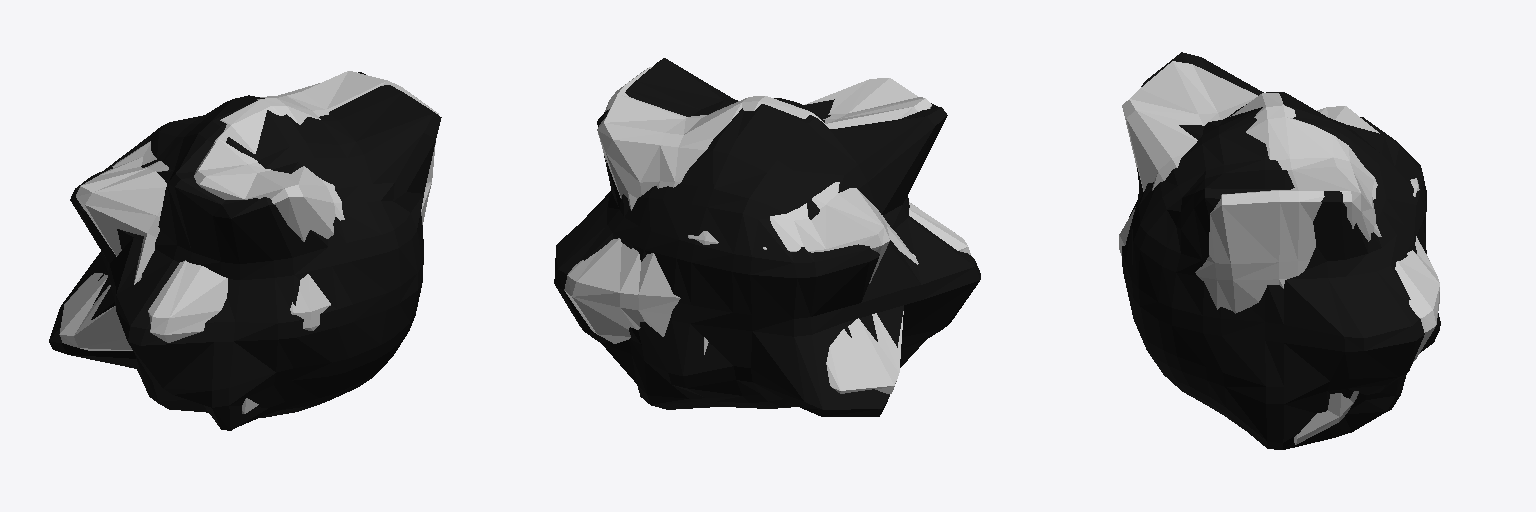
Rendered from power_crystal.obj.
The picture shows the model from 3 angles: view 1: azimuth 30°, elevation 25°; view 2: azimuth 150°, elevation 25°; view 3: azimuth 270°, elevation 25°; orthographic projection.
Visible parts, largest first — view 1: Cube.001; view 2: Cube.001; view 3: Cube.001.
Boxes of the visible parts, x1=… form: Cube.001: x1=49, y1=71, x2=441, y2=430; Cube.001: x1=554, y1=58, x2=980, y2=416; Cube.001: x1=1119, y1=52, x2=1440, y2=449.
Bounding box in the file's own units: 1.59 × 1.38 × 1.3.